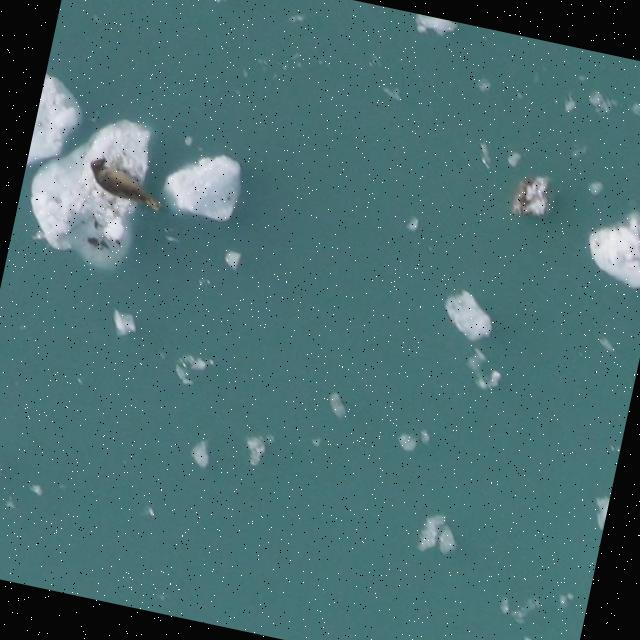seal: (83, 151, 165, 222)
